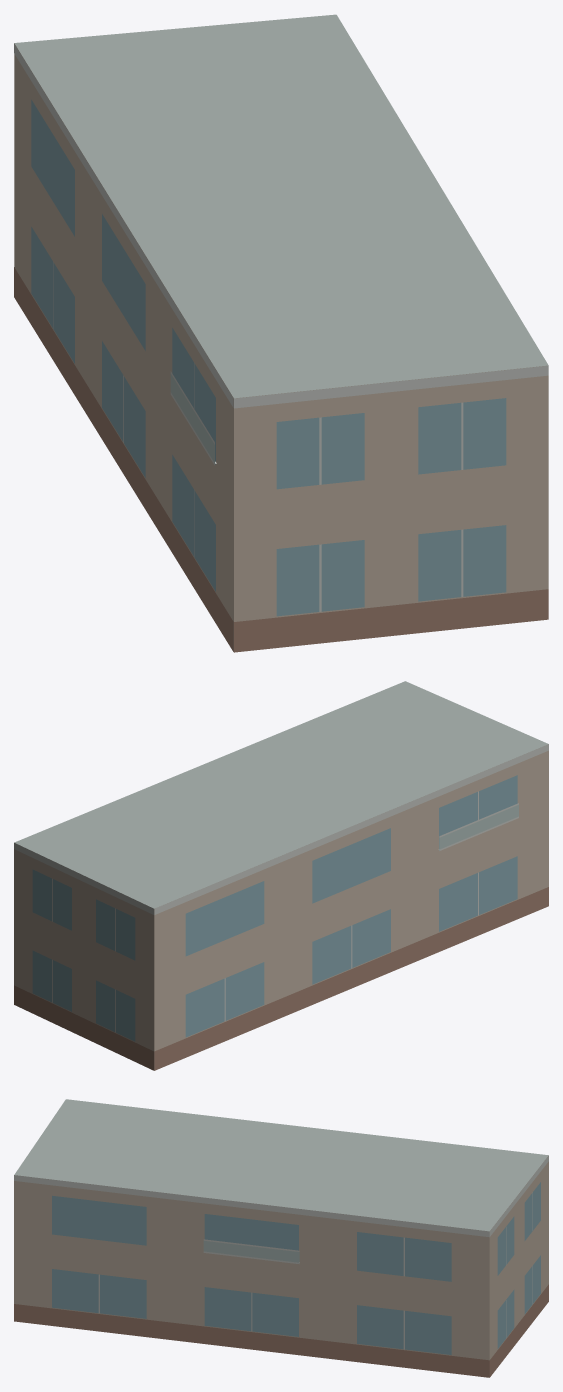
Rendered from survey-upis-32644353.glb.
The picture shows the model from 3 angles, top to bottom: view 1: azimuth 30°, elevation 25°; view 2: azimuth 150°, elevation 25°; view 3: azimuth 270°, elevation 25°; orthographic projection. The views are drawn at different scales.
Visible parts, largest first — view 1: survey-upis-32644353.tmp; view 2: survey-upis-32644353.tmp; view 3: survey-upis-32644353.tmp.
Part boxes in pixels (x1,y1,x2,y2): survey-upis-32644353.tmp: (14, 14, 548, 652); survey-upis-32644353.tmp: (14, 681, 548, 1070); survey-upis-32644353.tmp: (14, 1099, 548, 1377).
Bounding box in the file's own units: 11.83 × 6.1 × 20.21.
